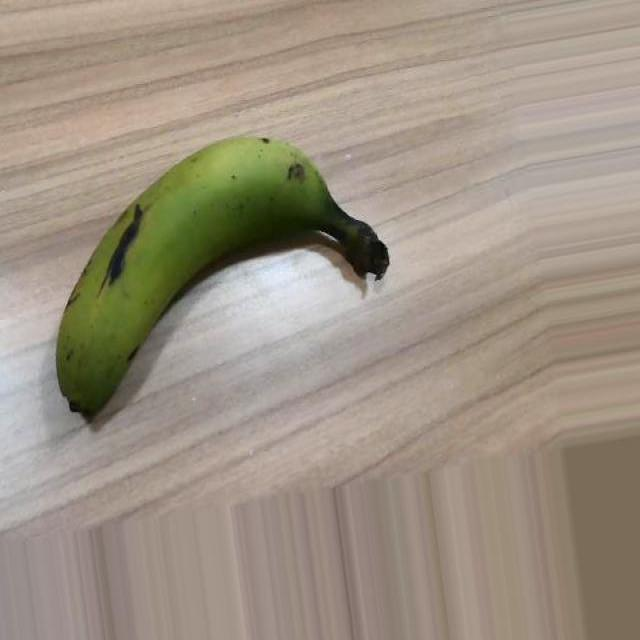Unripe: (55, 133, 387, 420)
